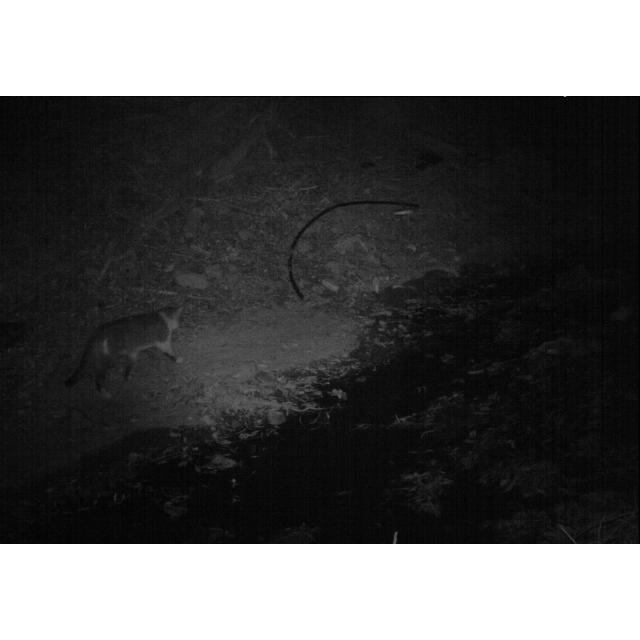animals: (67, 302, 186, 398)
